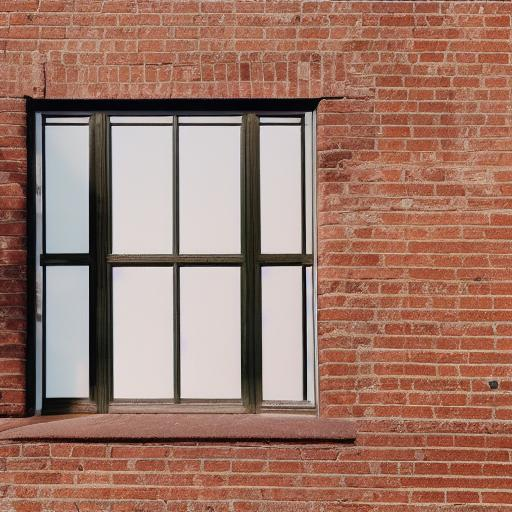Window: (6, 94, 364, 448)
